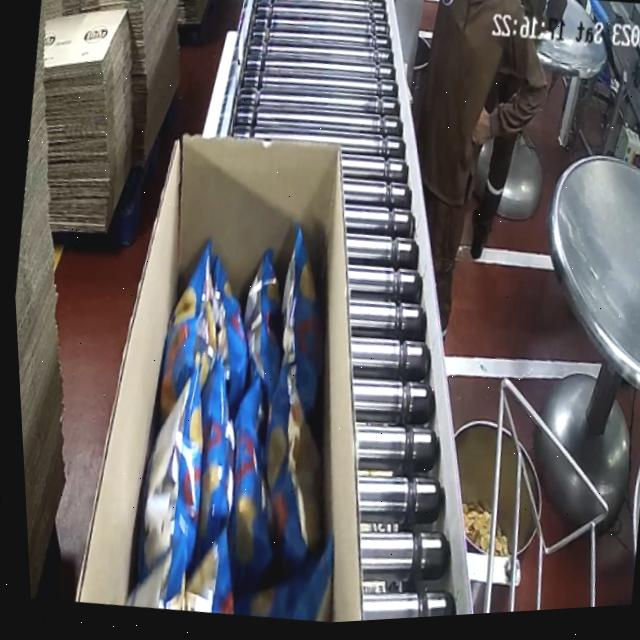PAPRIKA: (88, 208, 368, 633)
